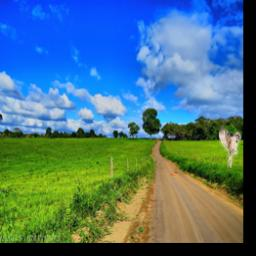Sparrow: (218, 119, 240, 168)
